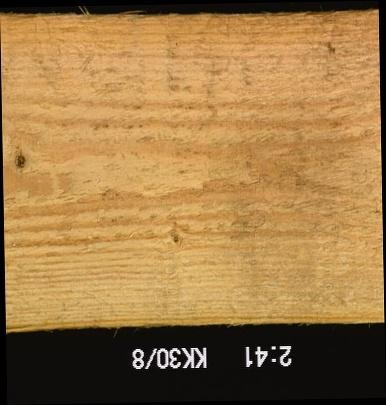small_knot: (314, 36, 340, 60), (164, 229, 185, 251)
